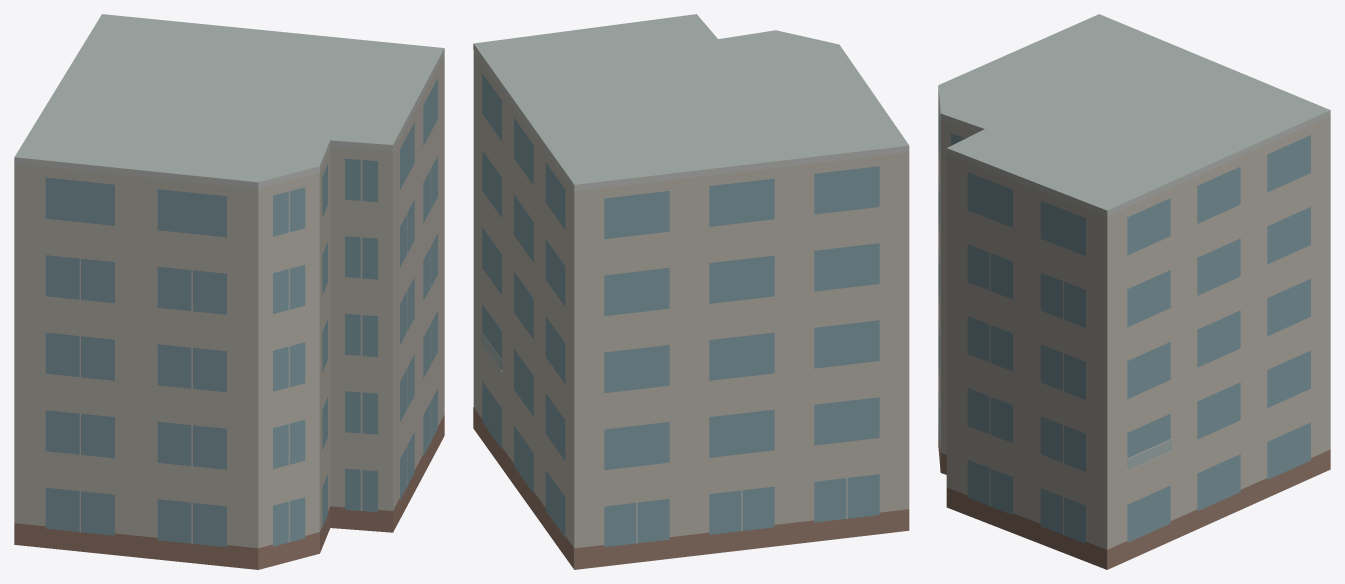
The model's file is survey-upis-32885002.glb.
3 views of the same model, side by side, from view 1: azimuth 30°, elevation 25°; view 2: azimuth 150°, elevation 25°; view 3: azimuth 270°, elevation 25° (orthographic). The views are drawn at different scales.
Parts seen in each view (by area): view 1: survey-upis-32885002.tmp; view 2: survey-upis-32885002.tmp; view 3: survey-upis-32885002.tmp.
Boxes of the visible parts, x1,y1,x2,y2 form: survey-upis-32885002.tmp: (14, 14, 444, 569); survey-upis-32885002.tmp: (473, 14, 909, 569); survey-upis-32885002.tmp: (938, 14, 1330, 569).
Size of the model in its own units: 16.9 by 14.4 by 14.26.
